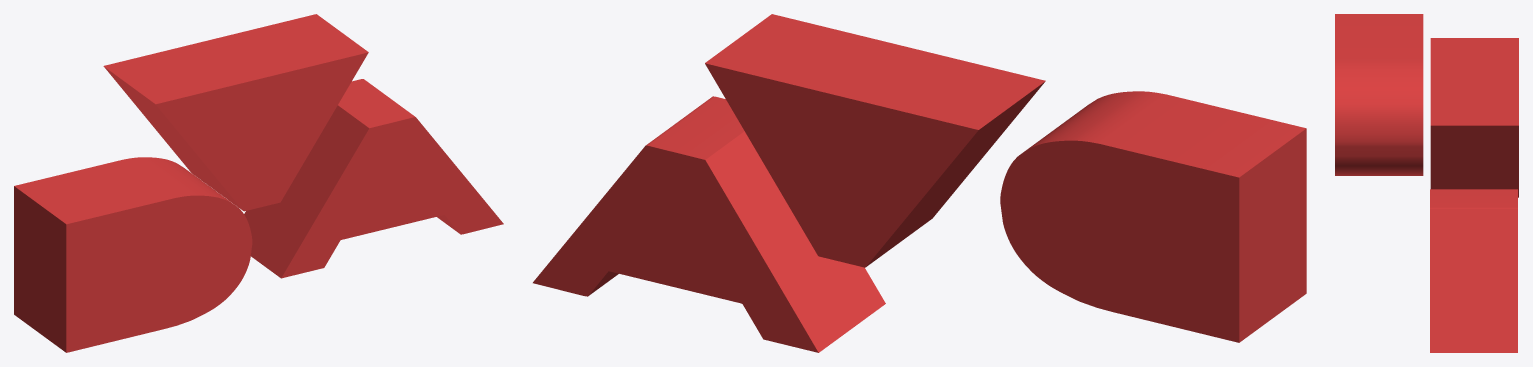
Rendered from dva.glb.
3 views of the same model, side by side, from view 1: azimuth 30°, elevation 25°; view 2: azimuth 150°, elevation 25°; view 3: azimuth 270°, elevation 25° (orthographic). The views are drawn at different scales.
Parts seen in each view (by area): view 1: Слой_1, Слой_1_1 2, Слой_1_1 3, Слой_1_3 2, Слой_1_3 3; view 2: Слой_1, Слой_1_5 2, Слой_1_5 3, Слой_1_3 2, Слой_1_3 3; view 3: Слой_1_3 3, Слой_1, Слой_1_3 2.
Boxes of the visible parts, box(x1,y1,x2,y2) form: Слой_1: box(14, 157, 252, 352); Слой_1_1 2: box(156, 52, 368, 211); Слой_1_1 3: box(281, 117, 503, 278); Слой_1_3 2: box(103, 14, 368, 210); Слой_1_3 3: box(244, 79, 459, 278); Слой_1: box(1000, 91, 1306, 342); Слой_1_5 2: box(705, 63, 978, 267); Слой_1_5 3: box(533, 145, 818, 352); Слой_1_3 2: box(705, 14, 1045, 266); Слой_1_3 3: box(589, 96, 885, 352); Слой_1_3 3: box(1430, 189, 1517, 352); Слой_1: box(1335, 14, 1423, 175); Слой_1_3 2: box(1430, 38, 1518, 197).
Size of what is drawn, in the model's own units: 0.5021 by 0.1988 by 0.1922.
